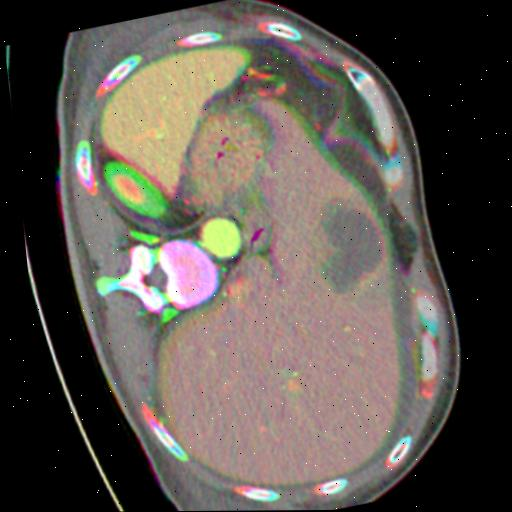Tumor: (317, 203, 377, 292)
